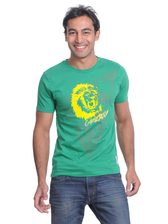clothoes: (27, 57, 138, 175)
